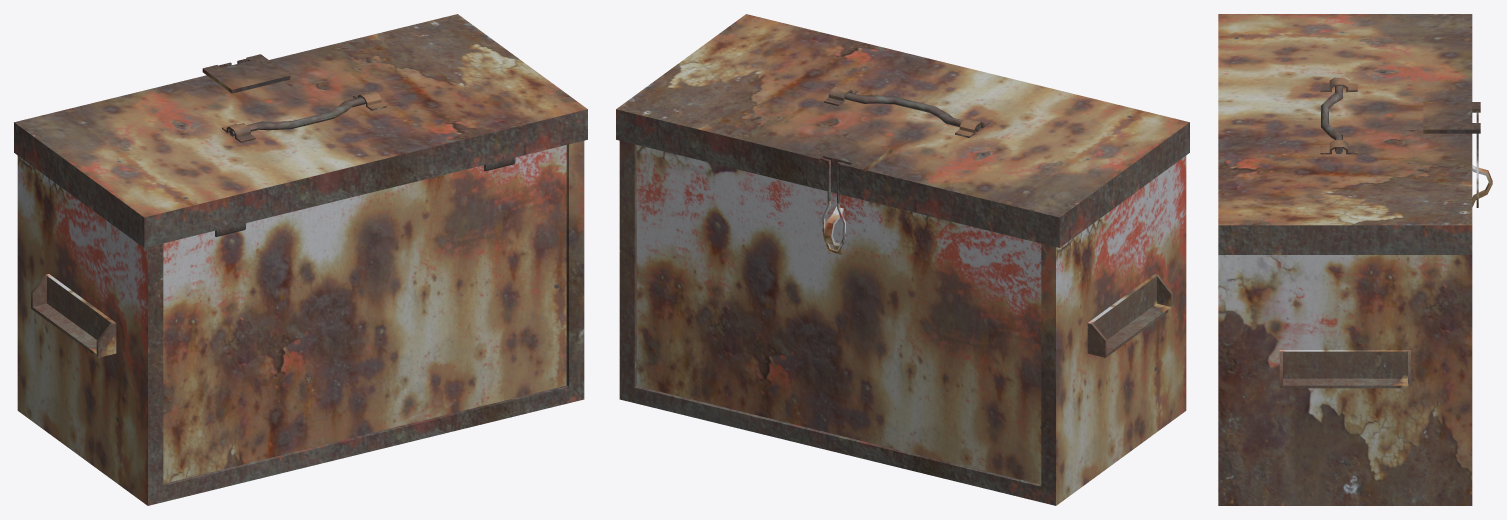
The model's file is SCP-902.fbx.
The picture shows the model from 3 angles, left to right: view 1: azimuth 30°, elevation 25°; view 2: azimuth 150°, elevation 25°; view 3: azimuth 270°, elevation 25°; orthographic projection. The views are drawn at different scales.
Visible parts, largest first — view 1: Box, Top, Knob; view 2: Box, Top, Knob, Lock; view 3: Box, Top, Knob.
Boxes of the visible parts, x1,y1,x2,y2 form: Box: (17, 141, 584, 505); Top: (14, 14, 587, 247); Knob: (229, 97, 365, 136); Box: (619, 141, 1186, 505); Top: (616, 14, 1189, 247); Knob: (844, 92, 980, 131); Lock: (820, 157, 849, 253); Box: (1218, 165, 1492, 505); Top: (1218, 14, 1480, 254); Knob: (1321, 86, 1342, 153).
Size of the model in its own units: 1280 by 768 by 659.
